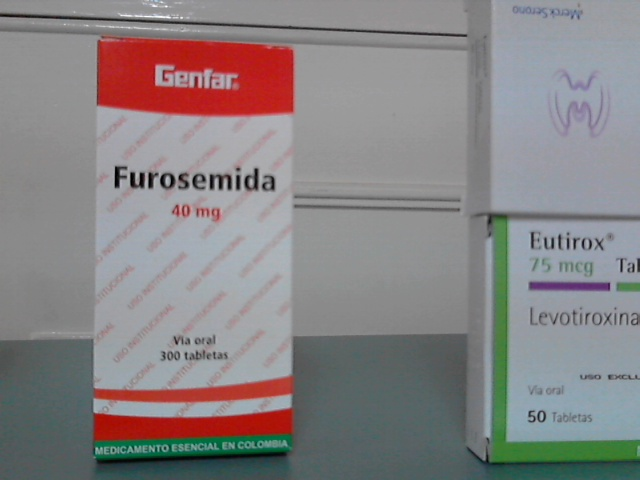Genfar: (96, 40, 293, 451)
